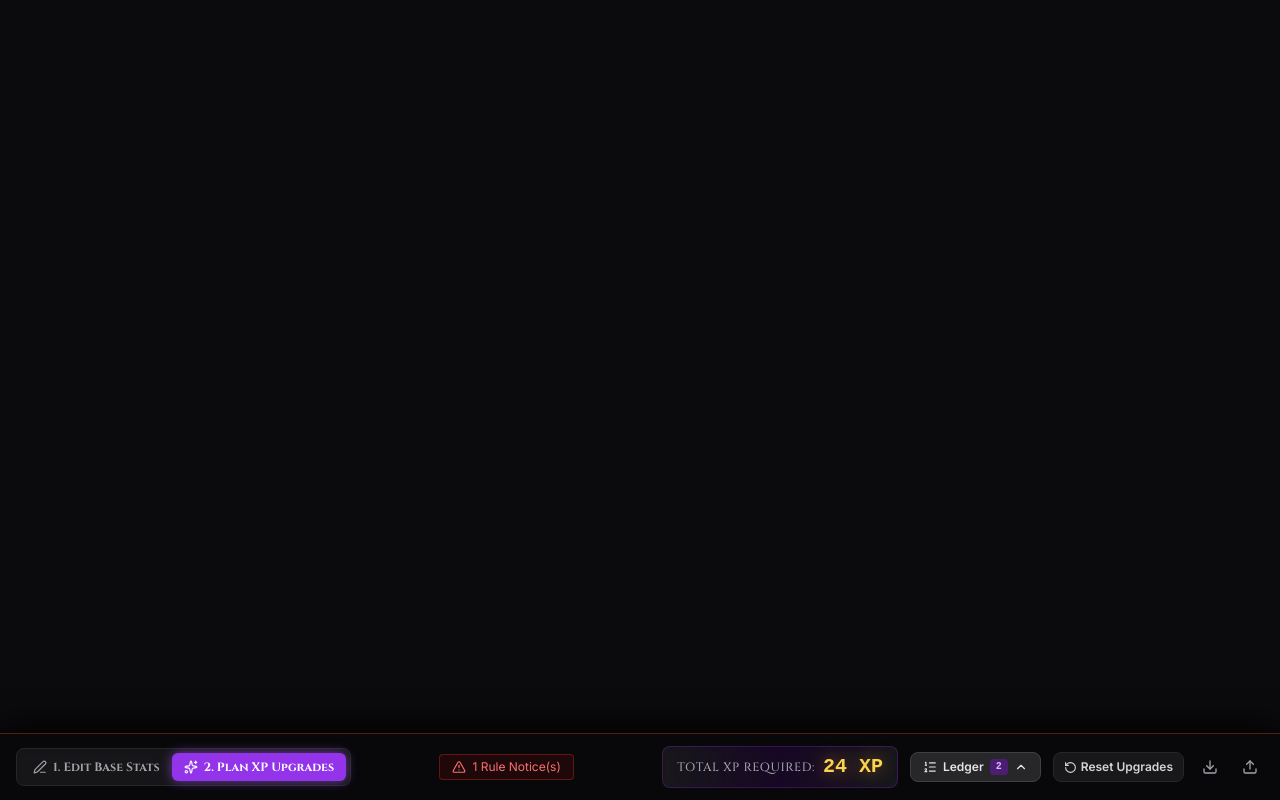
Test: XPSummaryBar Component › opens and closes drawer via Ledger button and close X
Click the button titled "View step-by-step upgrade breakdown ledger" at point(975, 767), box [910, 752, 1041, 782]
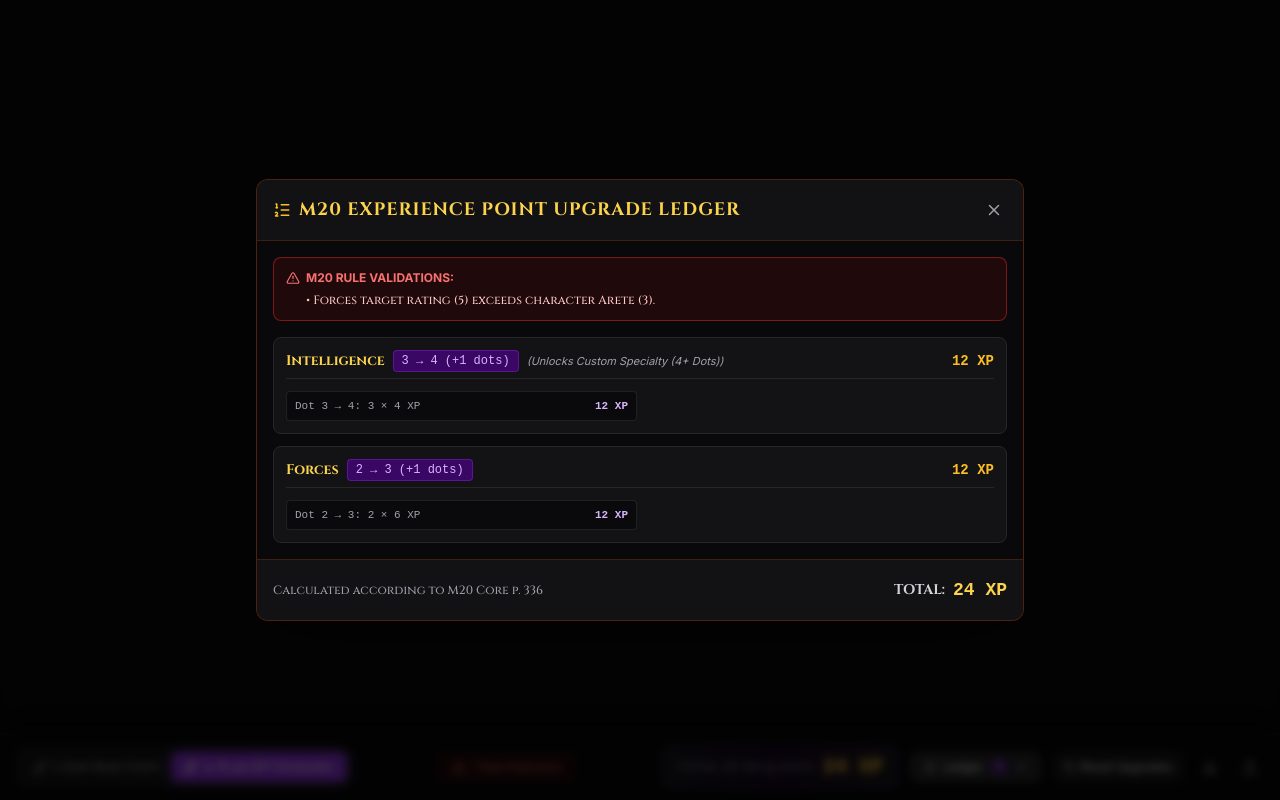
Expected: the heading "M20 Experience Point Upgrade Ledger" is shown, [299, 196, 740, 224]
Expected: the button is shown
Click the button at point(994, 210), box [981, 197, 1007, 223]
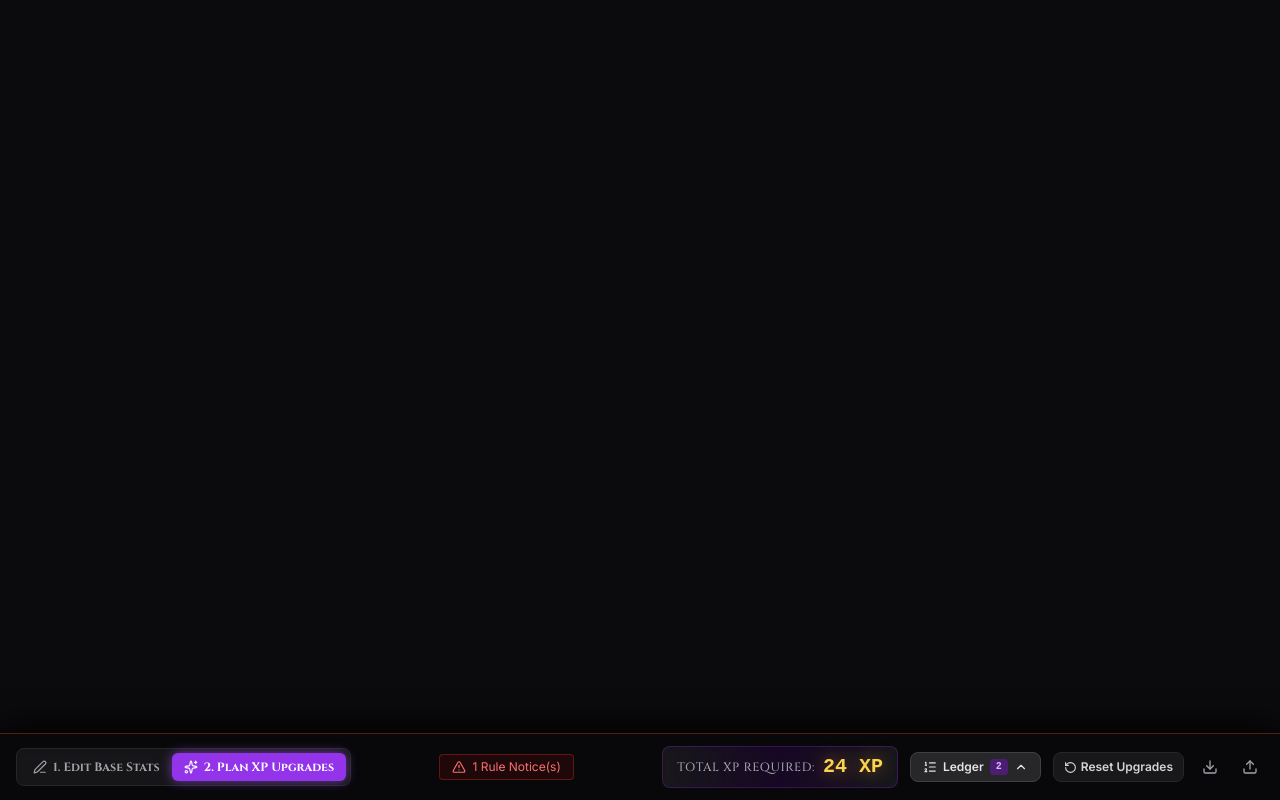
Expected: the heading "M20 Experience Point Upgrade Ledger" is gone
